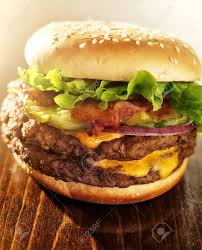hamburger: (4, 15, 202, 207)
